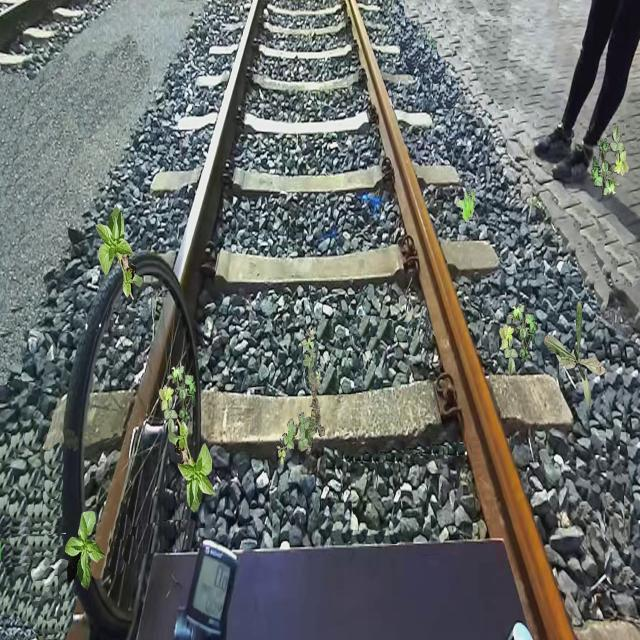Plant: (543, 301, 607, 413), (277, 327, 326, 465), (168, 419, 216, 514), (95, 206, 143, 301), (65, 511, 107, 591), (159, 362, 196, 436), (591, 126, 628, 200), (499, 301, 536, 374), (455, 189, 476, 222)
